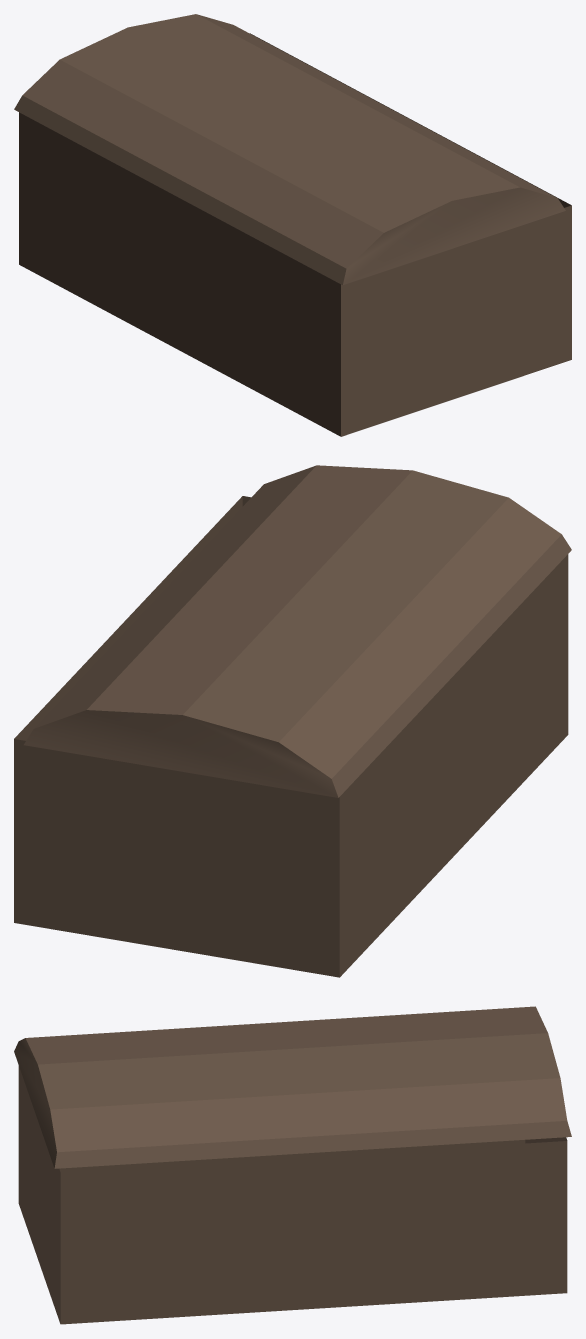
The picture shows the model from 3 angles, top to bottom: view 1: azimuth 30°, elevation 25°; view 2: azimuth 150°, elevation 25°; view 3: azimuth 270°, elevation 25°; orthographic projection. The views are drawn at different scales.
Visible parts, largest first — view 1: Box_9; view 2: Box_9; view 3: Box_9.
Part boxes in pixels (x1,y1,x2,y2): Box_9: (14, 14, 571, 436); Box_9: (14, 465, 571, 977); Box_9: (14, 1006, 571, 1324).
Size of the model in its own units: 16.83 by 25.84 by 10.05.
